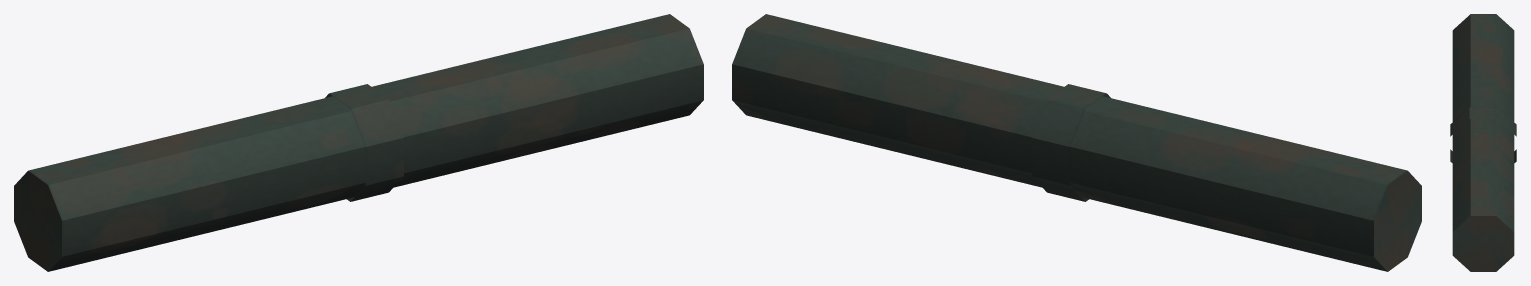
Rendered from SM_MachProp_PipeRun_Straight_200x30x30.fbx.
3 views of the same model, side by side, from view 1: azimuth 30°, elevation 25°; view 2: azimuth 150°, elevation 25°; view 3: azimuth 270°, elevation 25° (orthographic). The views are drawn at different scales.
Parts seen in each view (by area): view 1: SM_MachProp_PipeRun_Straight_200x30x30.001; view 2: SM_MachProp_PipeRun_Straight_200x30x30.001; view 3: SM_MachProp_PipeRun_Straight_200x30x30.001.
Part boxes in pixels (x1,y1,x2,y2): SM_MachProp_PipeRun_Straight_200x30x30.001: (14, 14, 703, 271); SM_MachProp_PipeRun_Straight_200x30x30.001: (732, 14, 1421, 271); SM_MachProp_PipeRun_Straight_200x30x30.001: (1450, 14, 1516, 271).
Bounding box in the file's own units: 2 × 0.2772 × 0.2772.
